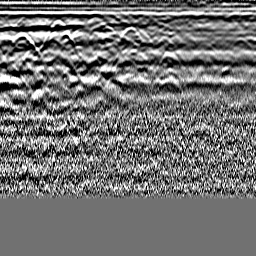cavity: (119, 26, 138, 41)
